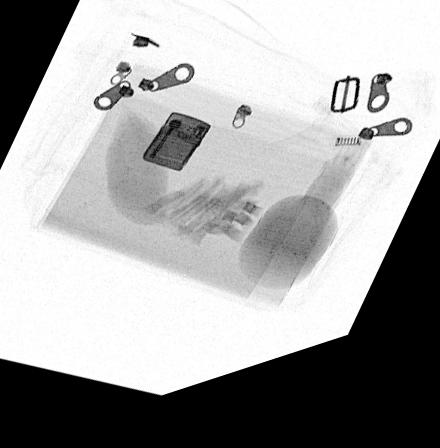Lighter: (141, 120, 212, 181)
